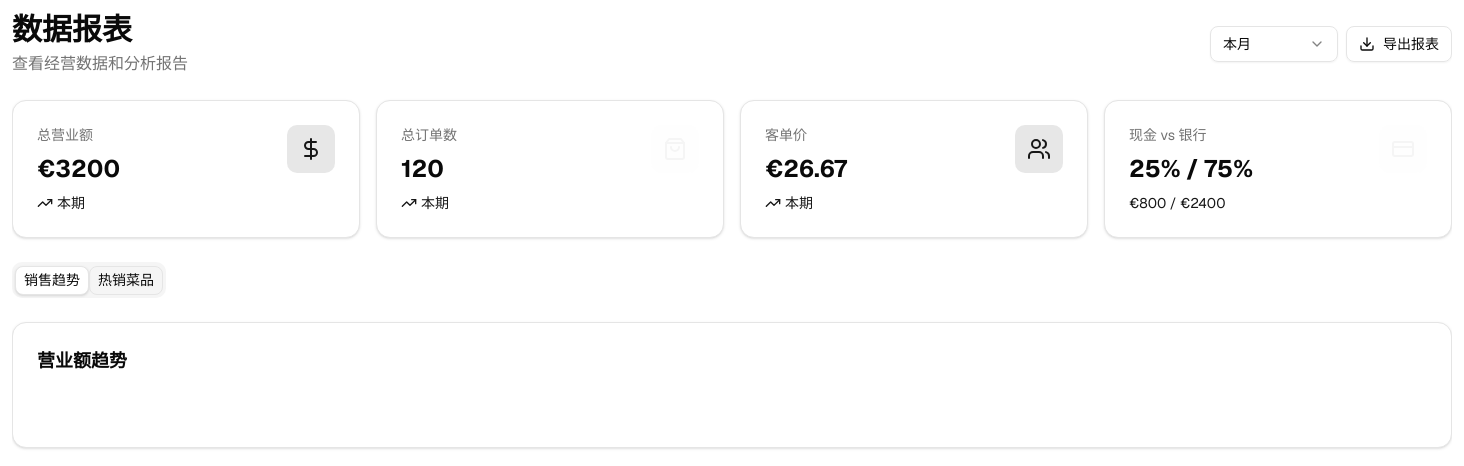
Test: ReportsView › switches granularity and re-renders data
The width and height of the screenshot is (1464, 466).
Expected: the text "€3200" is shown, x1=37 y1=153 x2=120 y2=185
Click the dropdown. click: click(1274, 44)
box: x1=1210 y1=26 x2=1338 y2=62
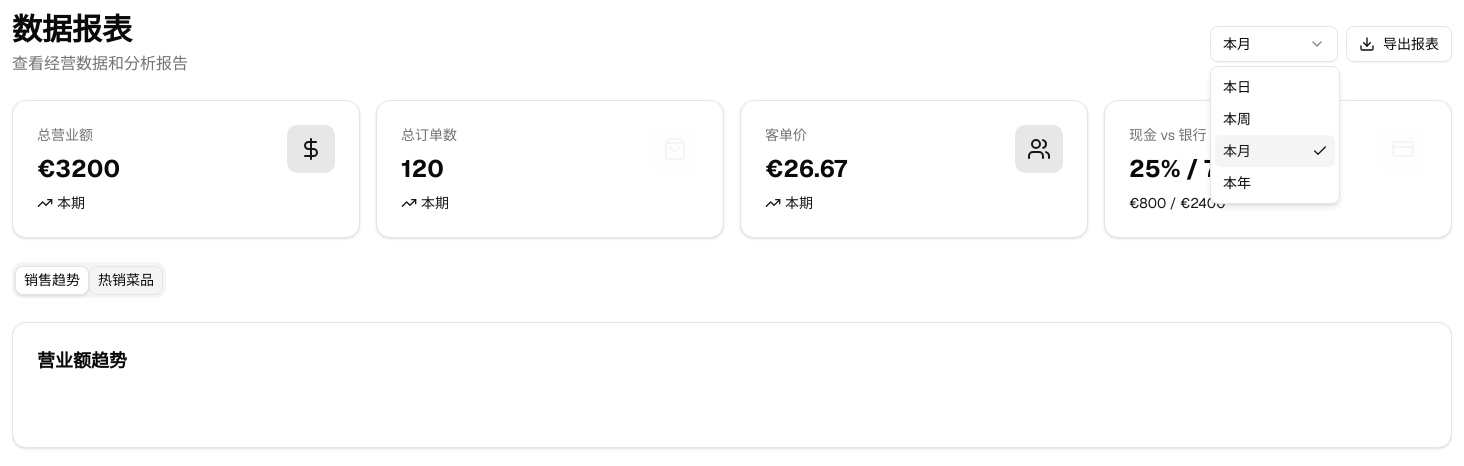
Click the option "本年". click: click(1237, 183)
box: x1=1223 y1=174 x2=1251 y2=192
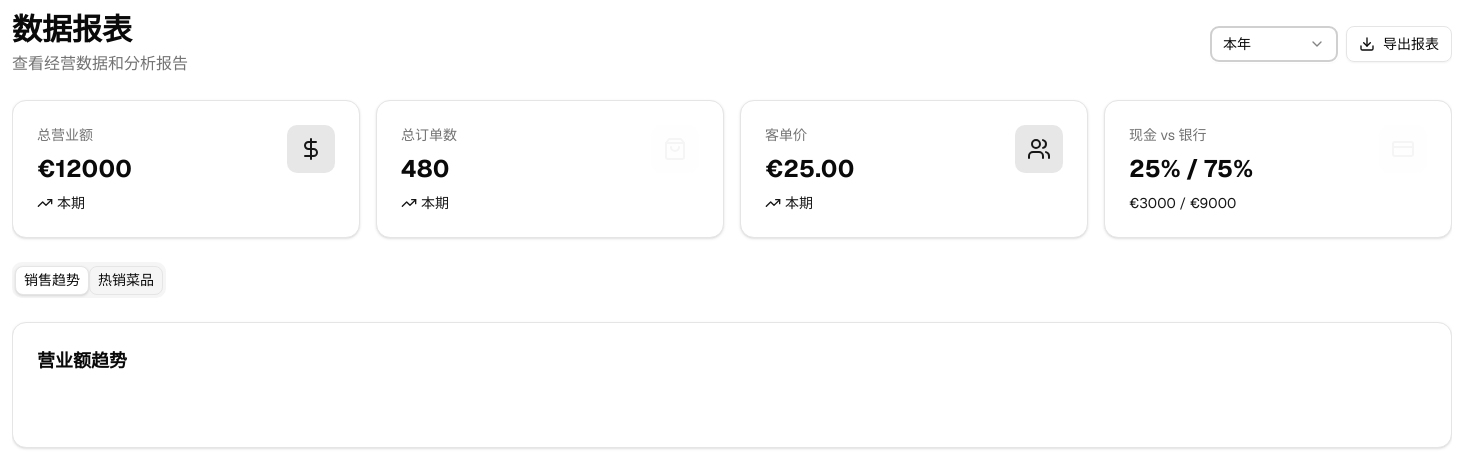
Now the text "€12000" is shown, box x1=37 y1=153 x2=132 y2=185
